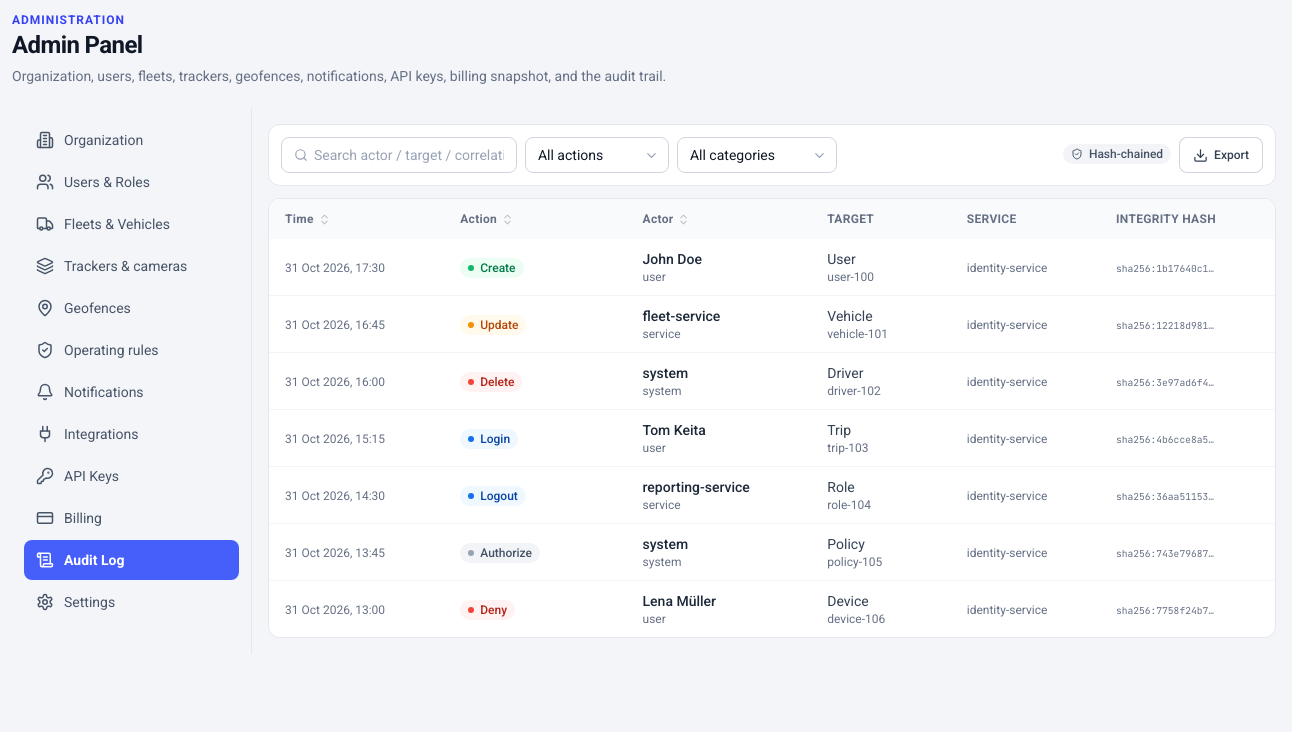
AdminPage › filters audit entries by action via the native select
Check: the text "identity-service" in the row of "31 Oct 2026, 17:30" is shown, box [967,261,1047,275]
Select "Delete" in the dropdown named "All actions". click: (597, 155)
box: [525,137,669,173]
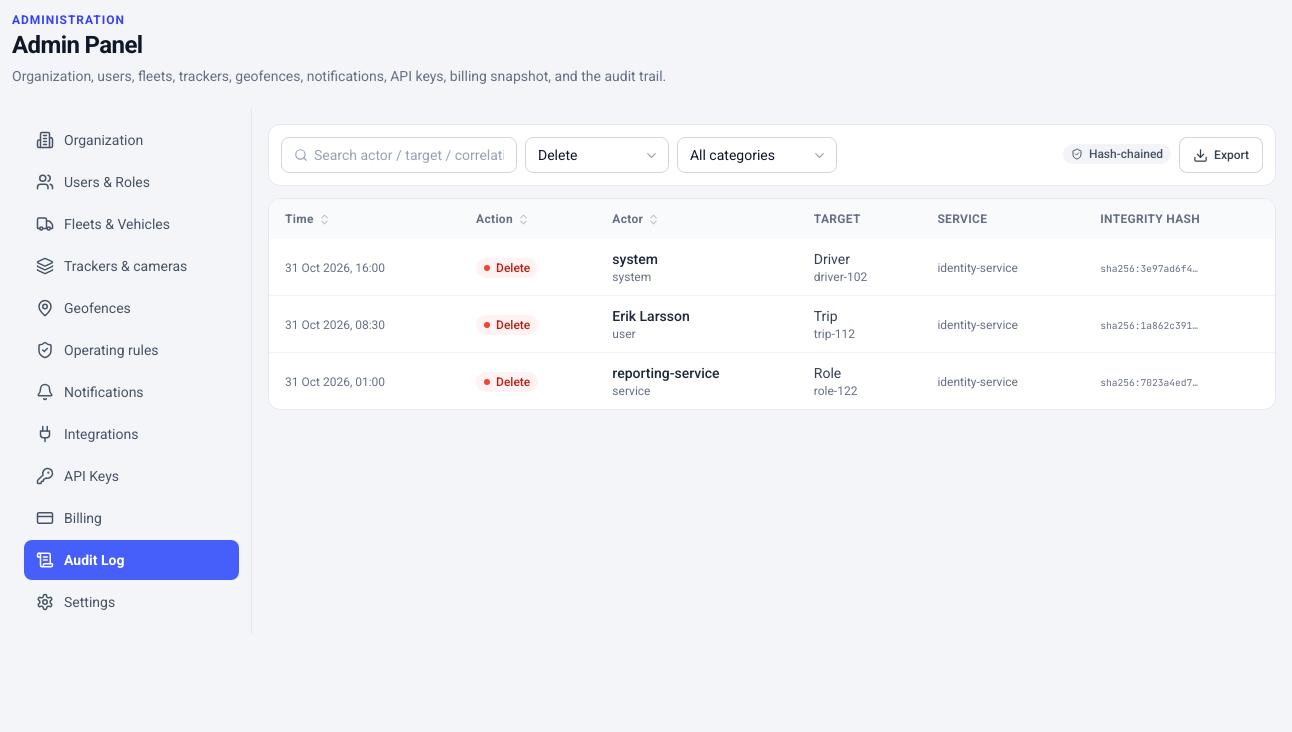
Check: the text "Delete" is shown 3 times, box [476,258,538,278]; [476,315,538,335]; [476,372,538,392]
Check: the text "Login" is gone
